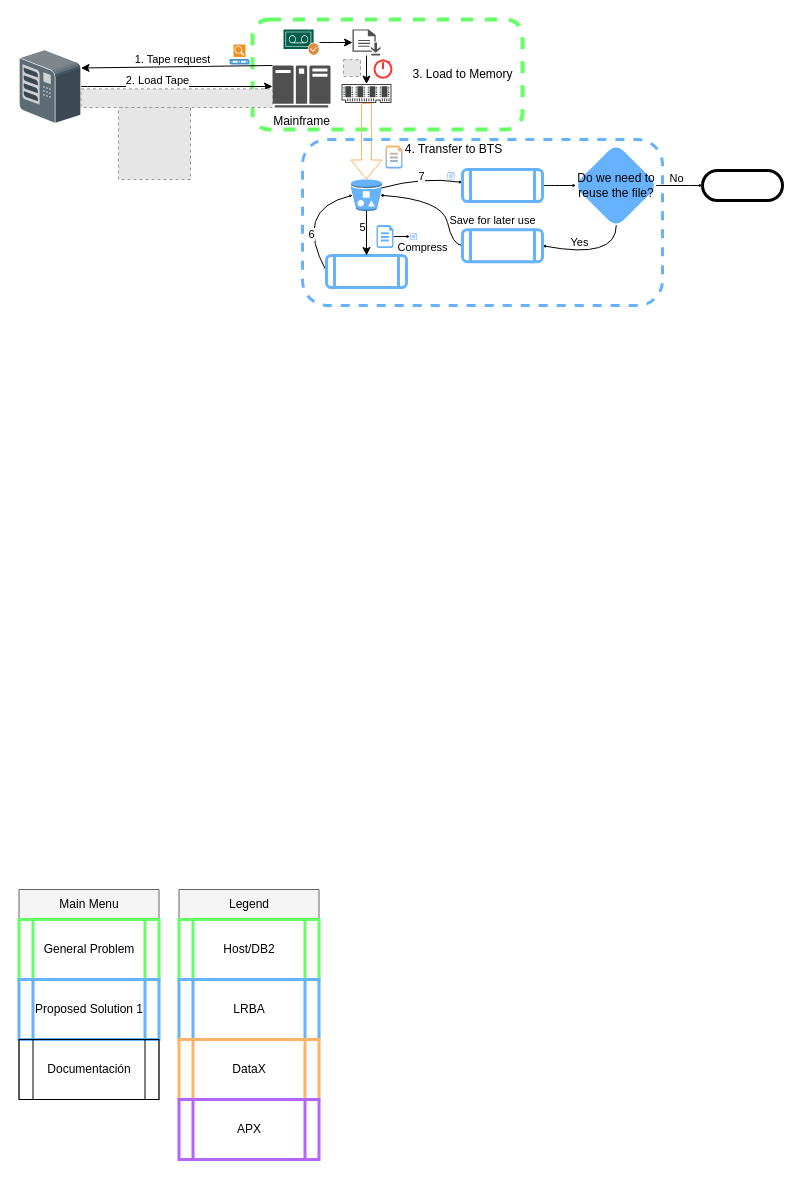
The diagram is 801 pixels wide and 1178 high, and some of its shapes have lost their labels. Grey dashed boxes stand in for pictures. Here are the shapes that lost their labels. From the top down, the centre of each, then its label:
At pixel 49 86: "Tape Library".
At pixel 502 185: "Logic".
At pixel 742 185: "End".
At pixel 502 245: "Renew File Lifespan".
At pixel 366 271: "Convert to Parquet".
